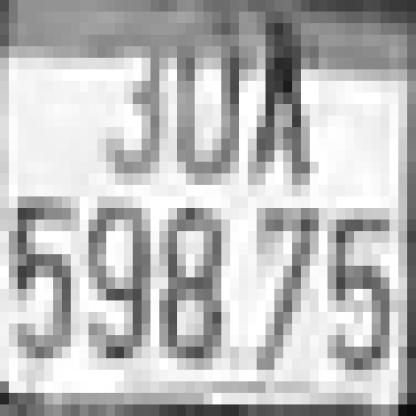5: (9, 196, 80, 346), (318, 208, 380, 358)
7: (248, 208, 310, 358)
8: (160, 208, 221, 358)
9: (88, 208, 150, 358)
A: (239, 23, 301, 185)
